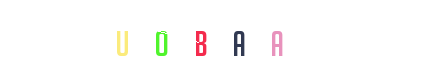A: (172, 0, 252, 80), (199, 0, 279, 80)
B: (162, 0, 242, 80)
O: (160, 0, 240, 80)
U: (121, 0, 201, 80)
